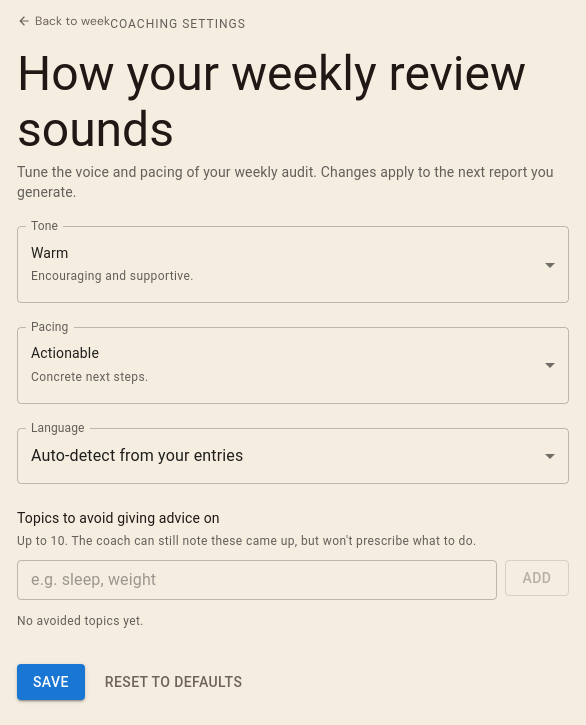
Test case: SettingsPage › PATCHes preferences with current values and shows a success banner on save
Type "weight" into the field with placeholder "e.g. sleep, weight" at (257, 580), box x1=17 y1=560 x2=497 y2=600
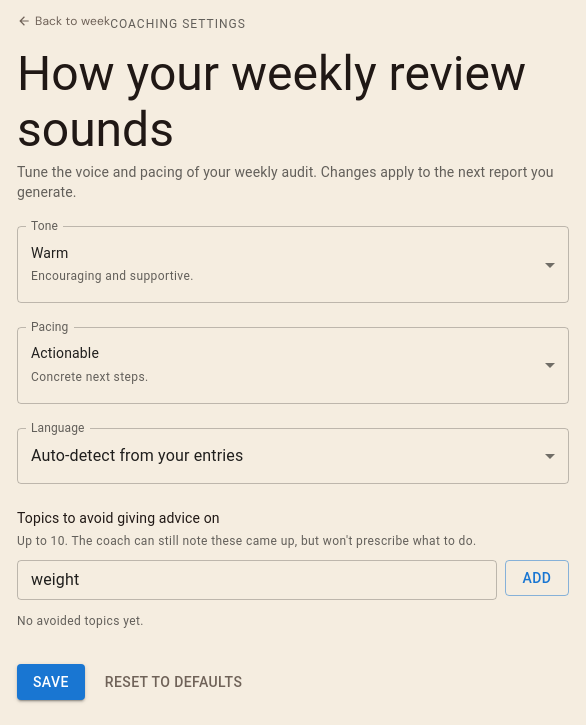
Press Enter in the field with placeholder "e.g. sleep, weight", box x1=17 y1=560 x2=497 y2=600
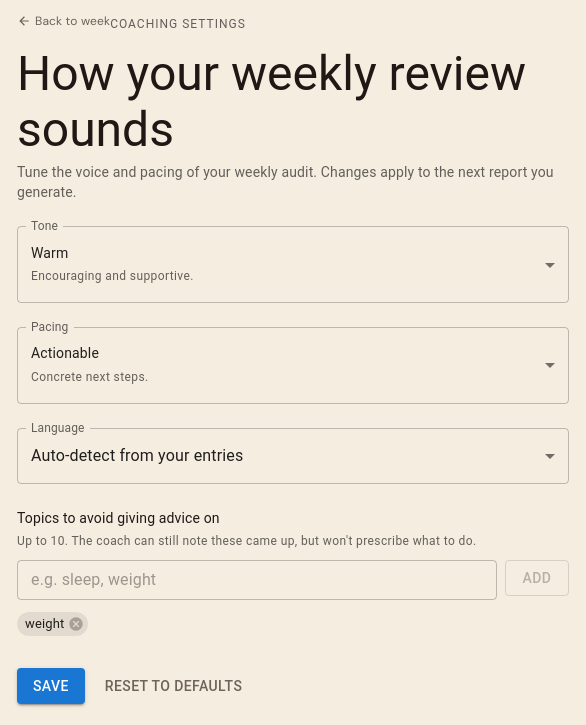
Click the button "Save" at (51, 686), box x1=17 y1=668 x2=85 y2=704
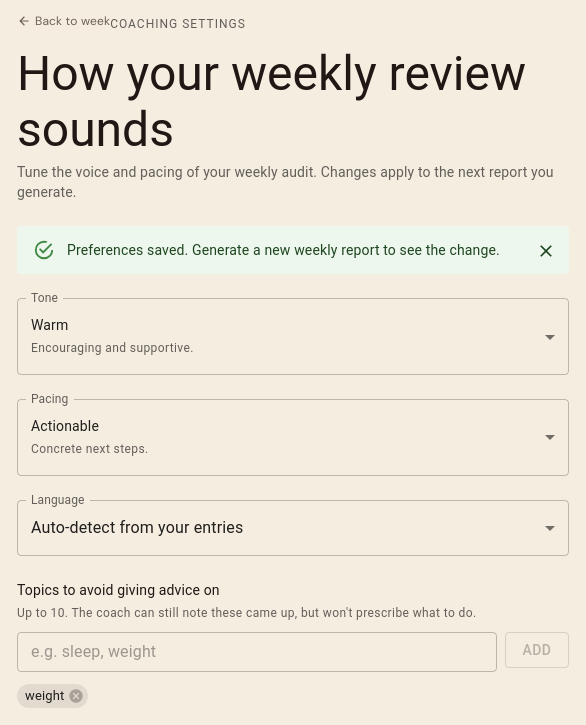
Now the text "Preferences saved" is shown, box x1=67 y1=242 x2=500 y2=258
